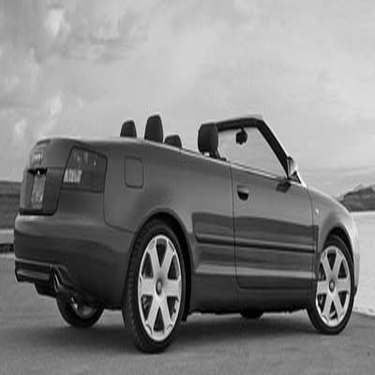car: (8, 109, 363, 356)
